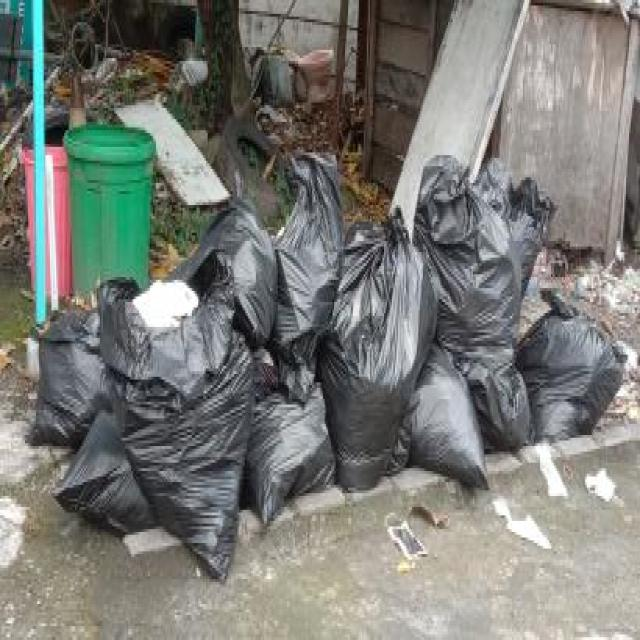sampah-detection: (88, 248, 265, 594), (311, 202, 437, 496), (230, 308, 382, 548), (413, 141, 552, 373), (512, 285, 629, 446)
